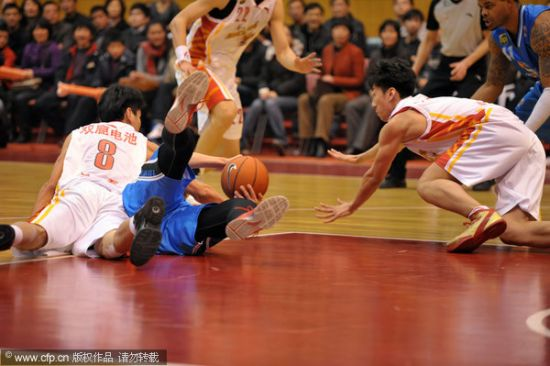10+: (3, 1, 550, 206)
down: (306, 47, 550, 258), (1, 85, 251, 268), (107, 65, 301, 264)
